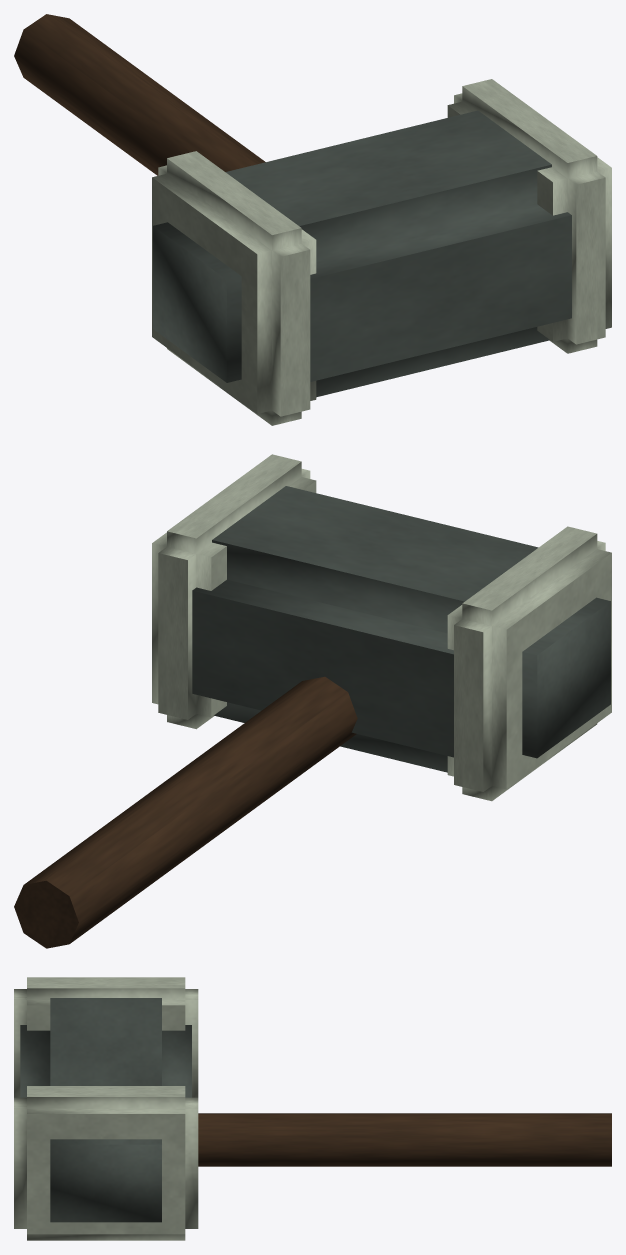
File: item-Warhammer.fbx
3 views of the same model, one above another, from view 1: azimuth 30°, elevation 25°; view 2: azimuth 150°, elevation 25°; view 3: azimuth 270°, elevation 25° (orthographic). The views are drawn at different scales.
Parts seen in each view (by area): view 1: item-Warhammer__Geometry; view 2: item-Warhammer__Geometry; view 3: item-Warhammer__Geometry.
Part boxes in pixels (box(x1,y1,x2,y2)): item-Warhammer__Geometry: box(14, 14, 611, 425); item-Warhammer__Geometry: box(14, 454, 611, 948); item-Warhammer__Geometry: box(14, 977, 611, 1240).
Bounding box in the file's own units: 0.39 × 0.185 × 0.6975.
1 material, 1 textured.
